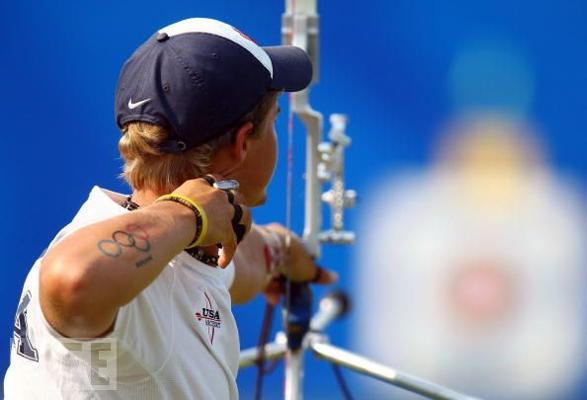person: (8, 13, 345, 400)
